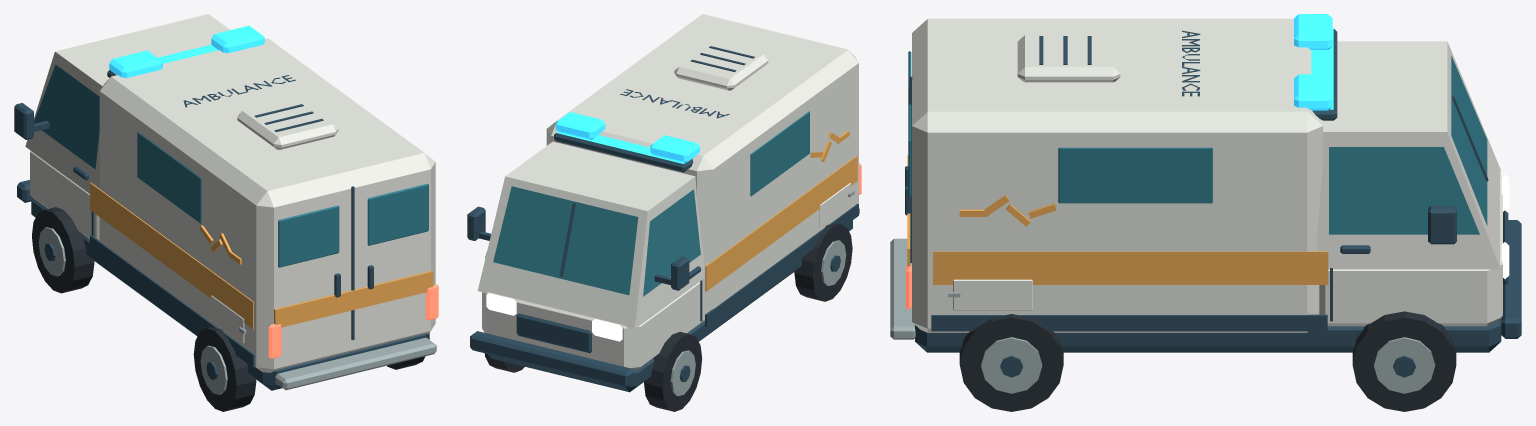
The model's file is ambulance.glb.
The picture shows the model from 3 angles, left to right: view 1: azimuth 30°, elevation 25°; view 2: azimuth 150°, elevation 25°; view 3: azimuth 270°, elevation 25°; orthographic projection. The views are drawn at different scales.
Parts seen in each view (by area): view 1: ambulance; view 2: ambulance; view 3: ambulance.
Boxes of the visible parts, x1=… form: ambulance: x1=14, y1=14, x2=438, y2=411; ambulance: x1=467, y1=14, x2=861, y2=411; ambulance: x1=890, y1=14, x2=1521, y2=411.
Bounding box in the file's own units: 2.66 × 2.78 × 5.22.
